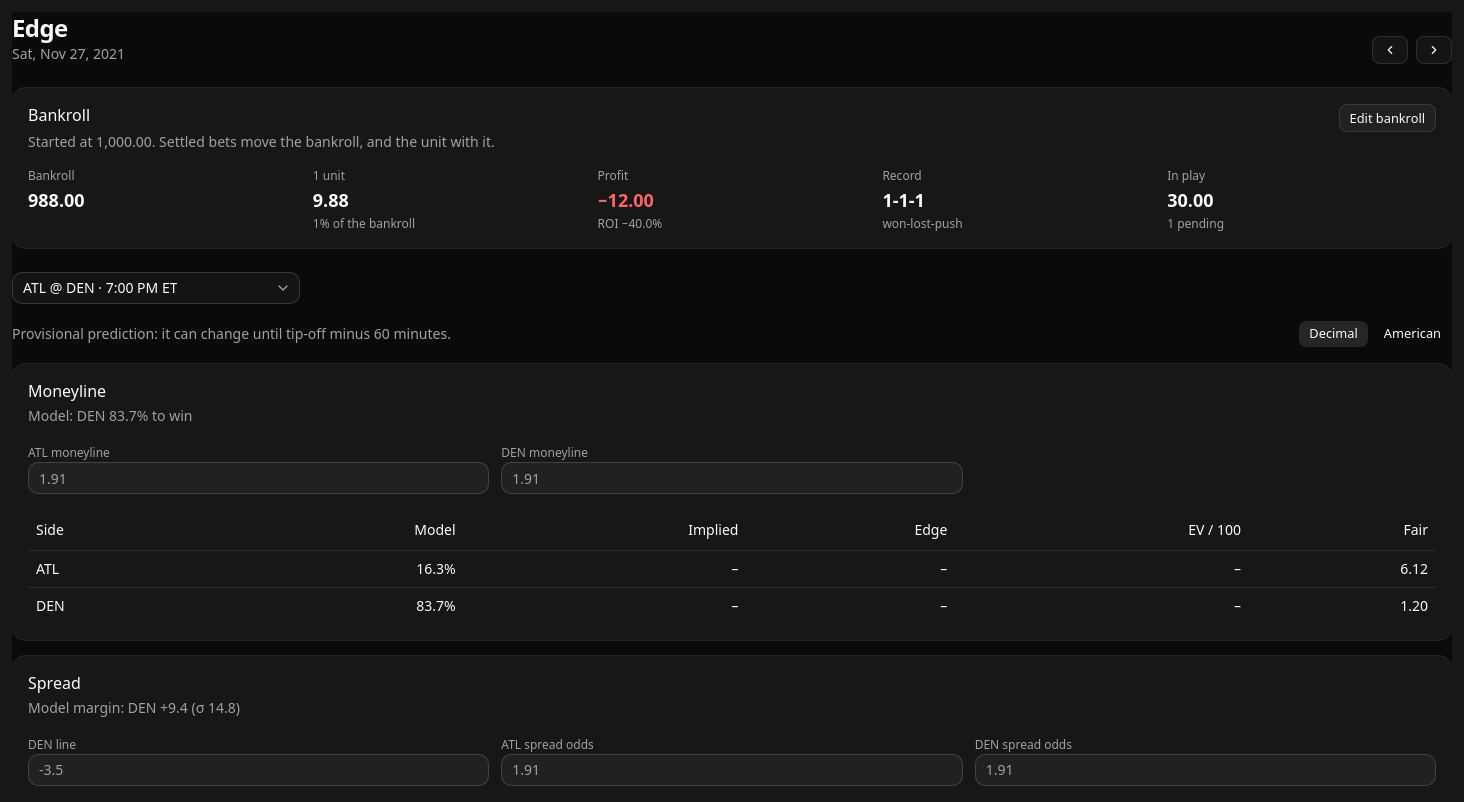
it: EdgeView › switching to decimal converts the typed odds
This screenshot has width=1464, height=802.
Click the button "American". click: point(1412, 334)
box: 1373,320 -> 1452,348
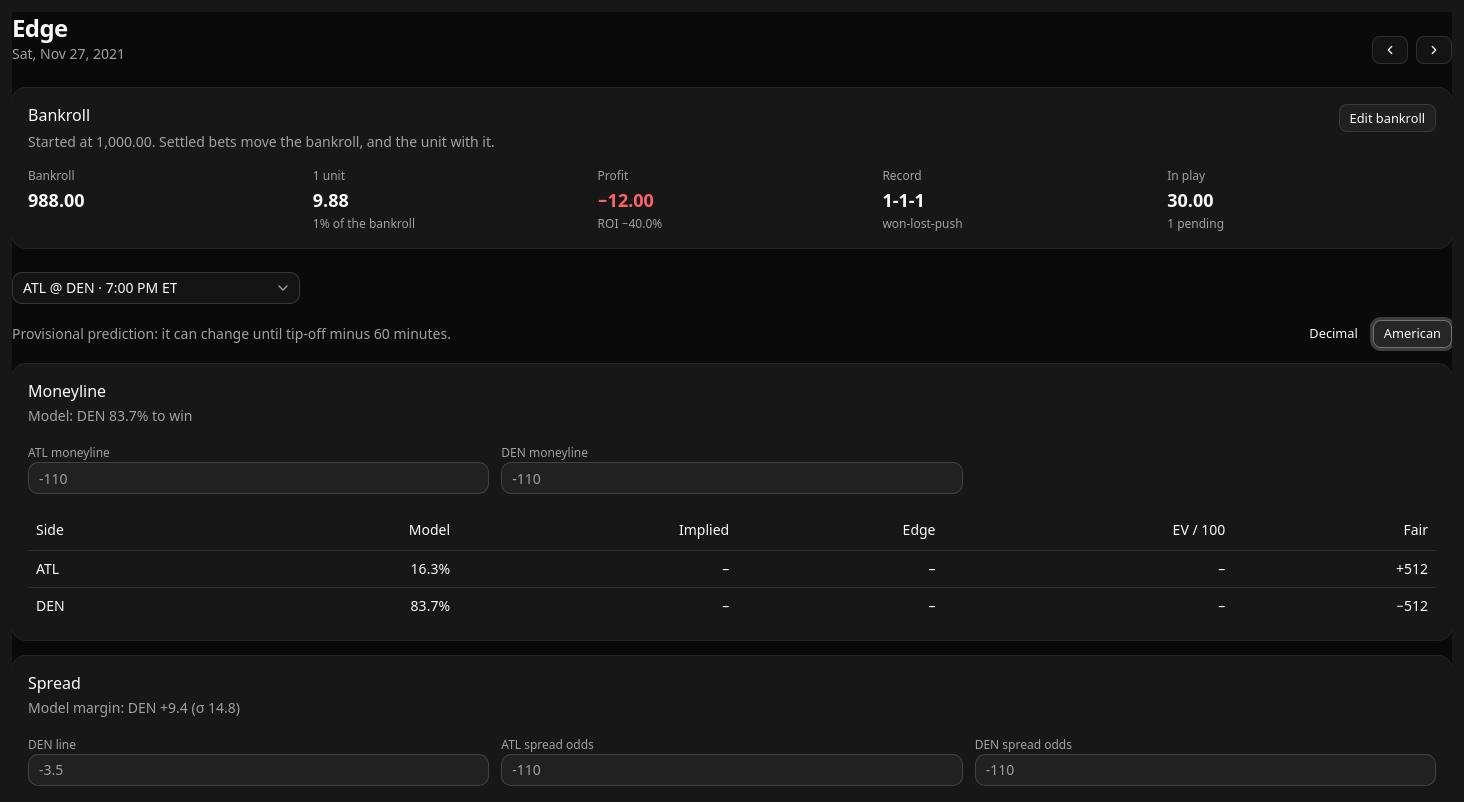
Type "+150" into the field labelled "DEN moneyline". click: point(732, 478)
box: 501,462 -> 963,494
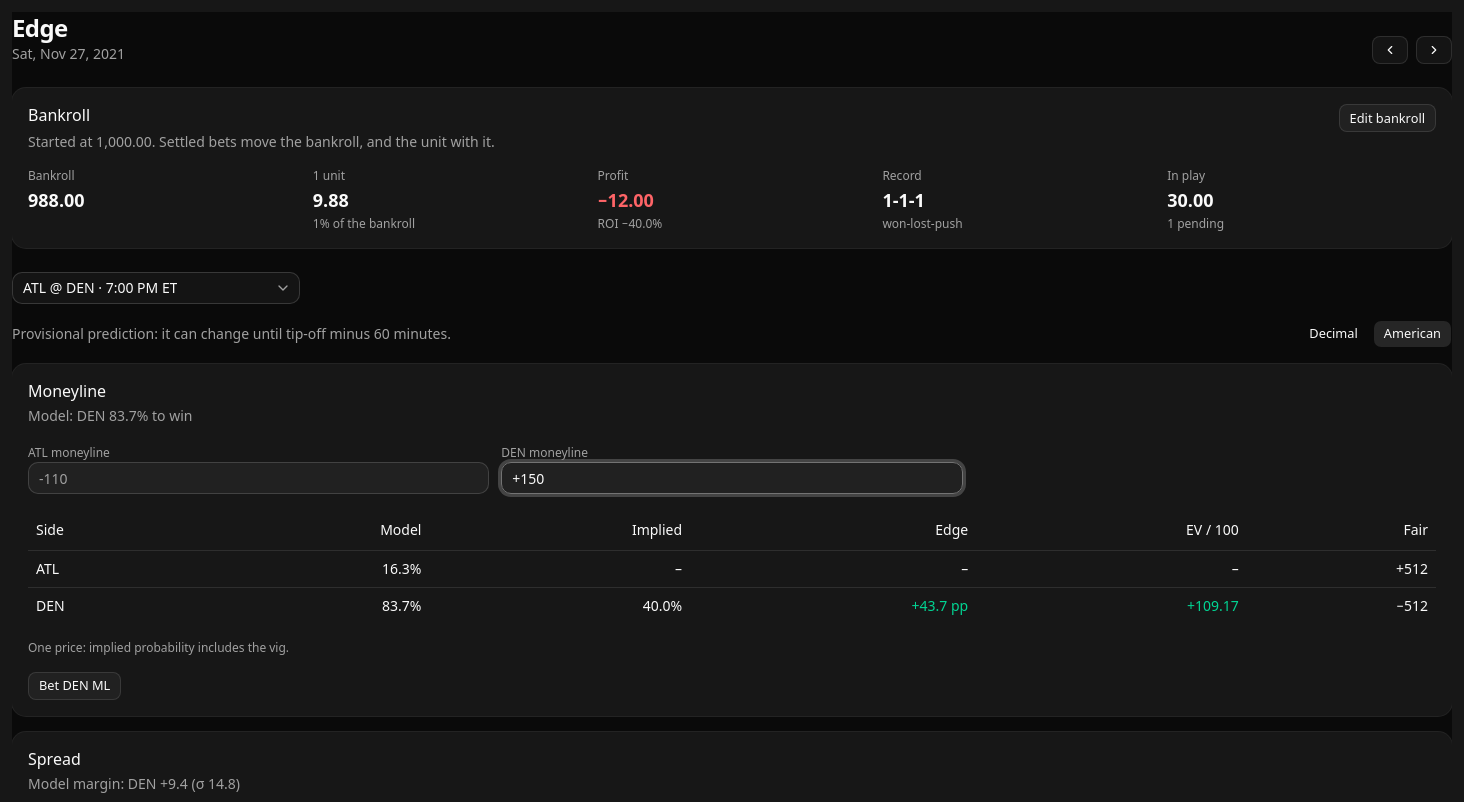
Click the button "Decimal". click: point(1334, 334)
box: 1298,320 -> 1369,348
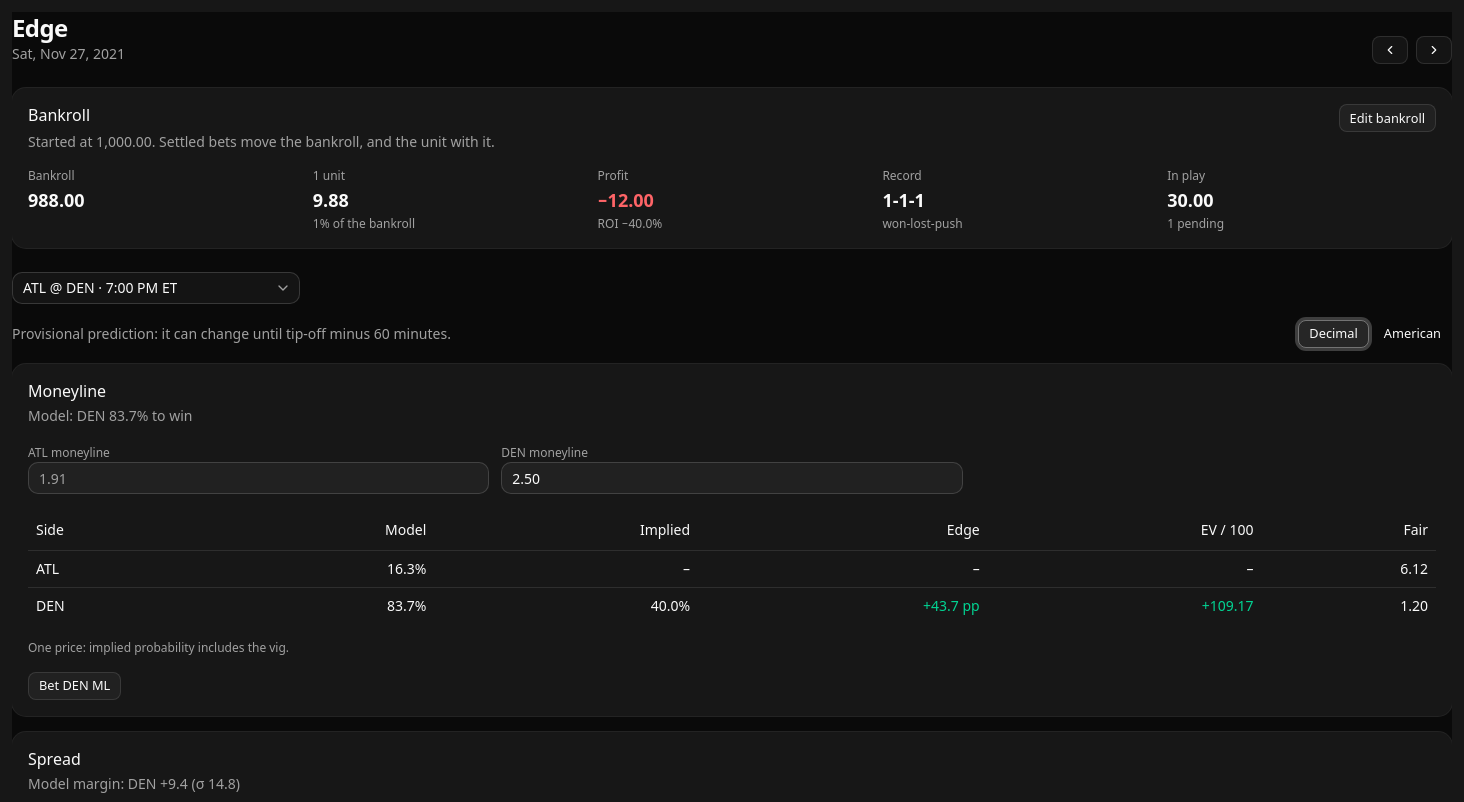
Expected: the field labelled "DEN moneyline" holds "2.50", 501,462 -> 963,494
